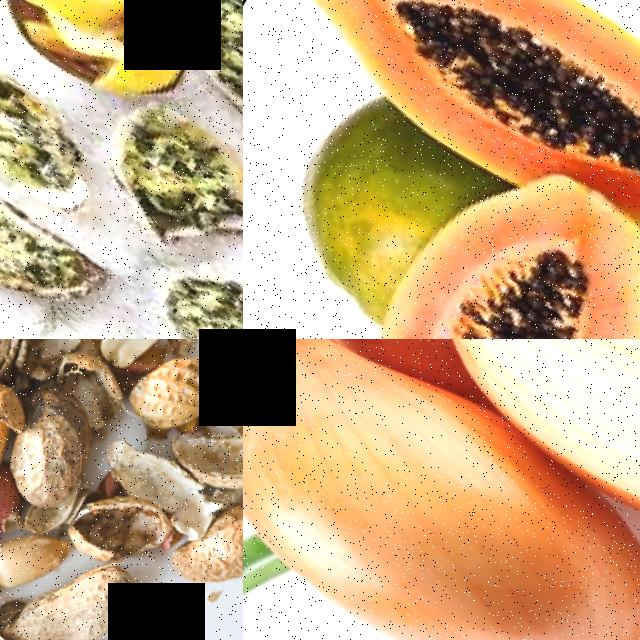onion: (243, 339, 640, 640), (410, 339, 640, 580)
pawpaw: (265, 0, 640, 266), (332, 130, 640, 339)
peanuts: (0, 374, 113, 518), (25, 540, 153, 640), (119, 339, 235, 444), (161, 470, 243, 612), (0, 508, 76, 609)
